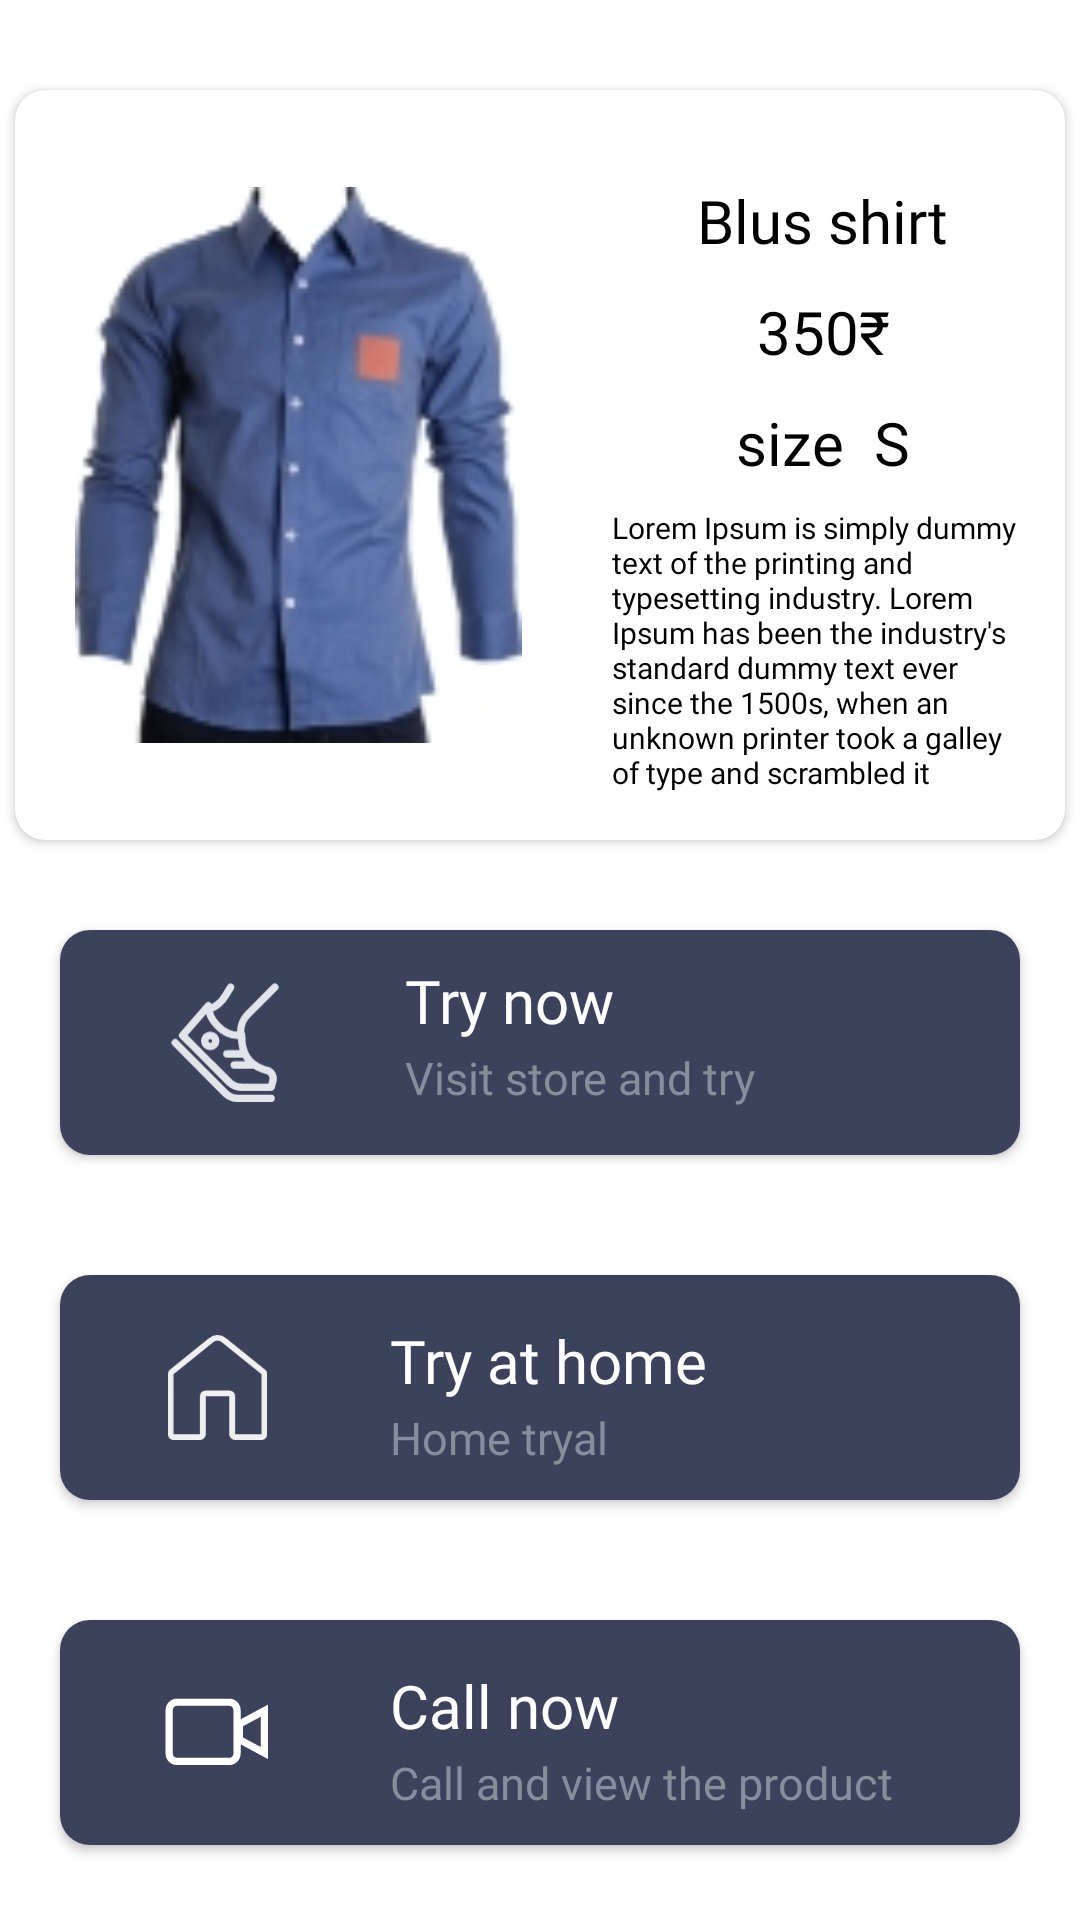

Point at icon controls on the screen. Image size 1080x1920, points as point (x, y).
iwhite home: point (217, 1387)
